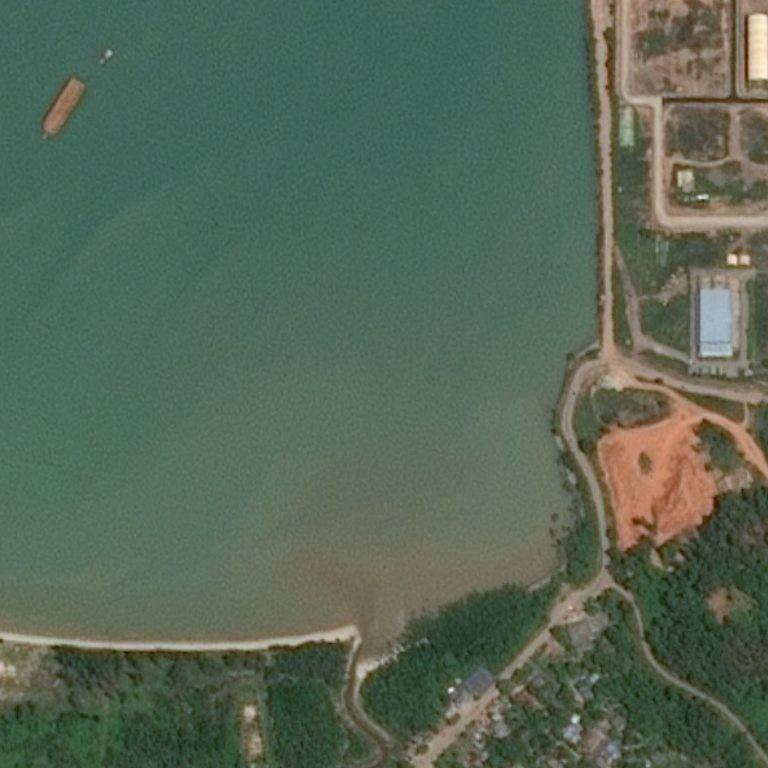ship: (38, 0, 90, 67), (21, 48, 39, 66), (41, 133, 48, 139), (82, 81, 87, 88), (69, 78, 76, 81), (107, 49, 110, 51), (100, 63, 102, 64), (113, 53, 114, 54)
